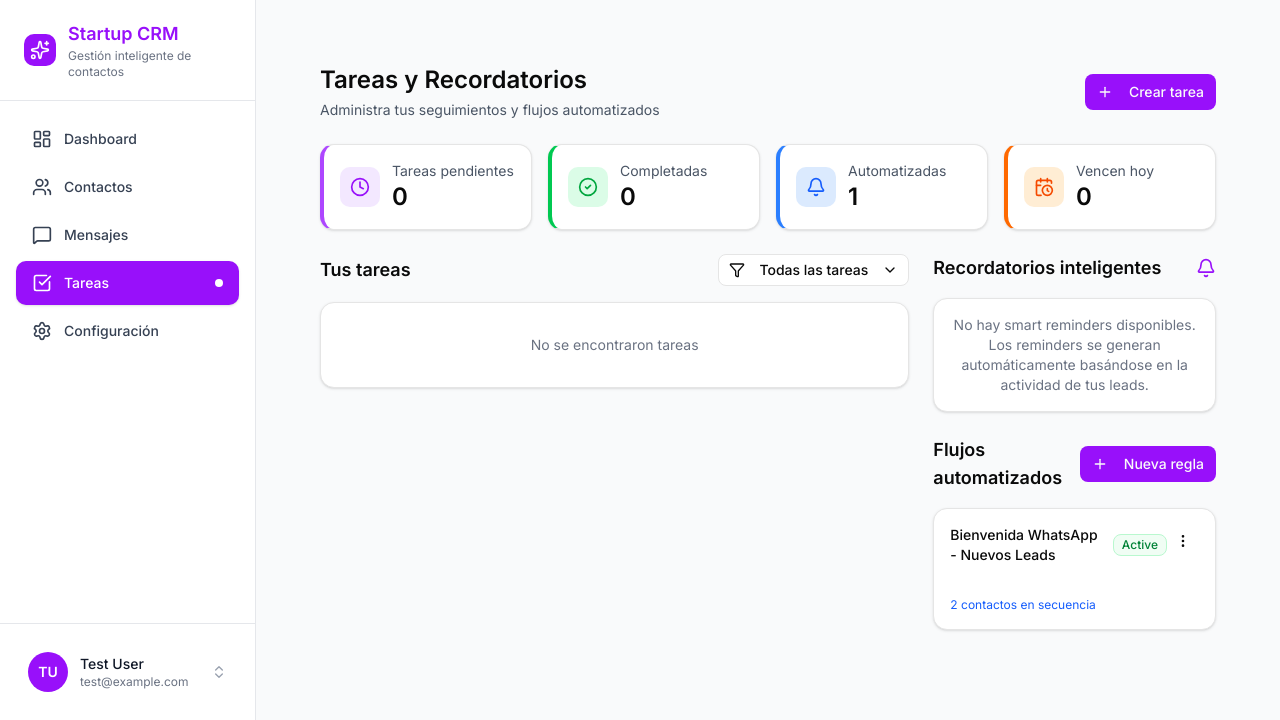
Test case: Flujo de Bienvenida WhatsApp › Asignación de contactos al flujo › debe permitir buscar contactos en el modal de asignación
Click the button with test id "workflow-menu-1": (1183, 541) x1=1167 y1=525 x2=1199 y2=557
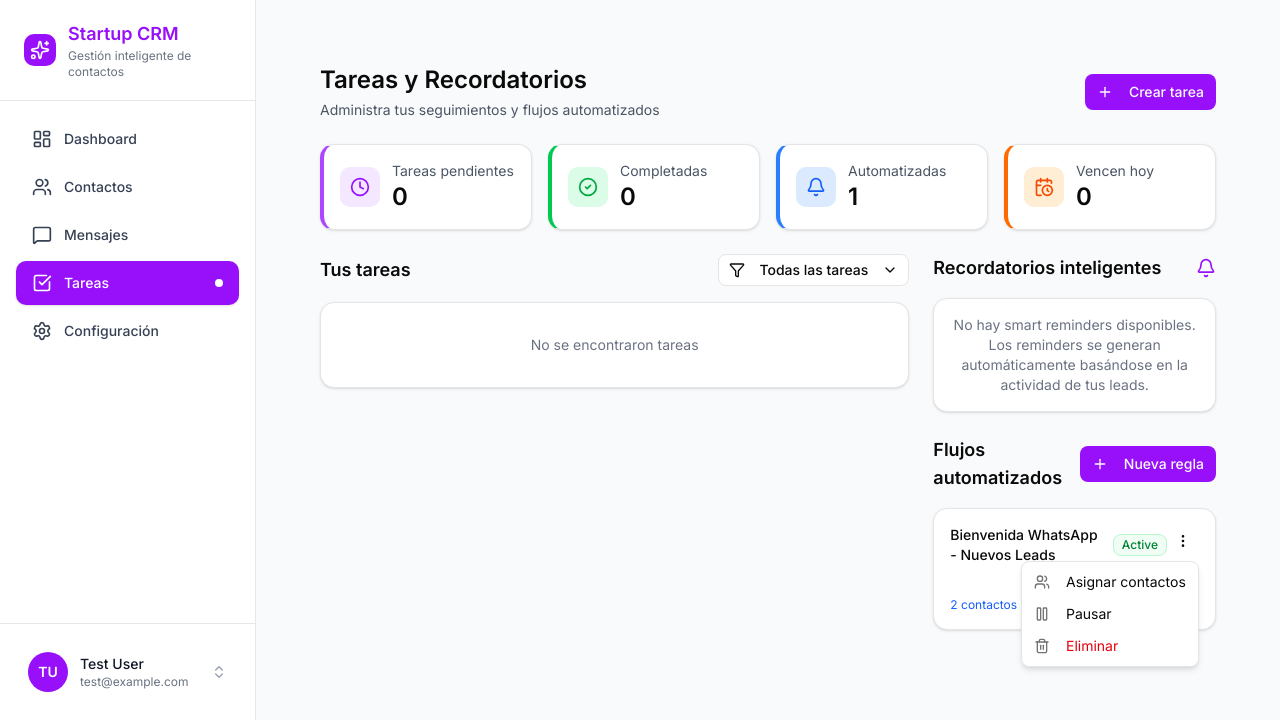
Click the menu item with test id "workflow-assign-contacts-1": (1110, 582) x1=1034 y1=573 x2=1186 y2=590
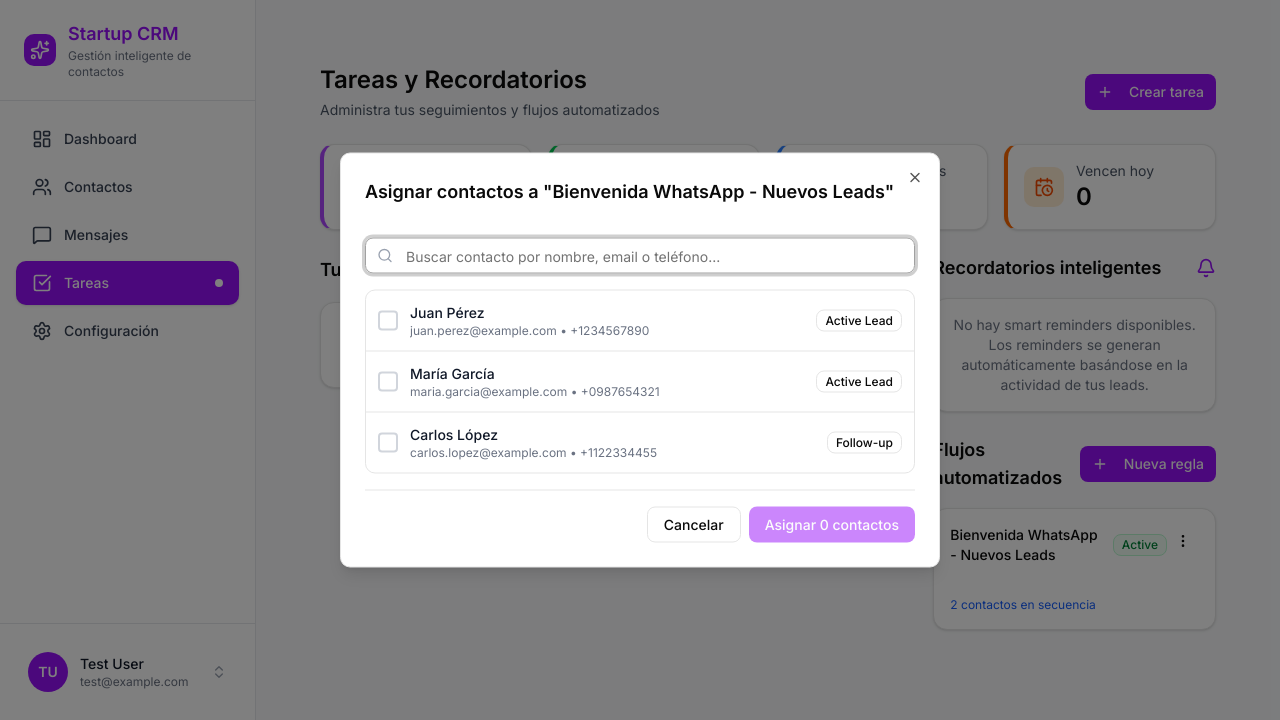
Check: the text "Juan Pérez" is shown, box x1=410 y1=304 x2=485 y2=320
// Buscar un contacto específico
In the field with placeholder "Buscar contacto por nombre, email o teléfono...": (640, 256) x1=365 y1=238 x2=915 y2=274, type "María"
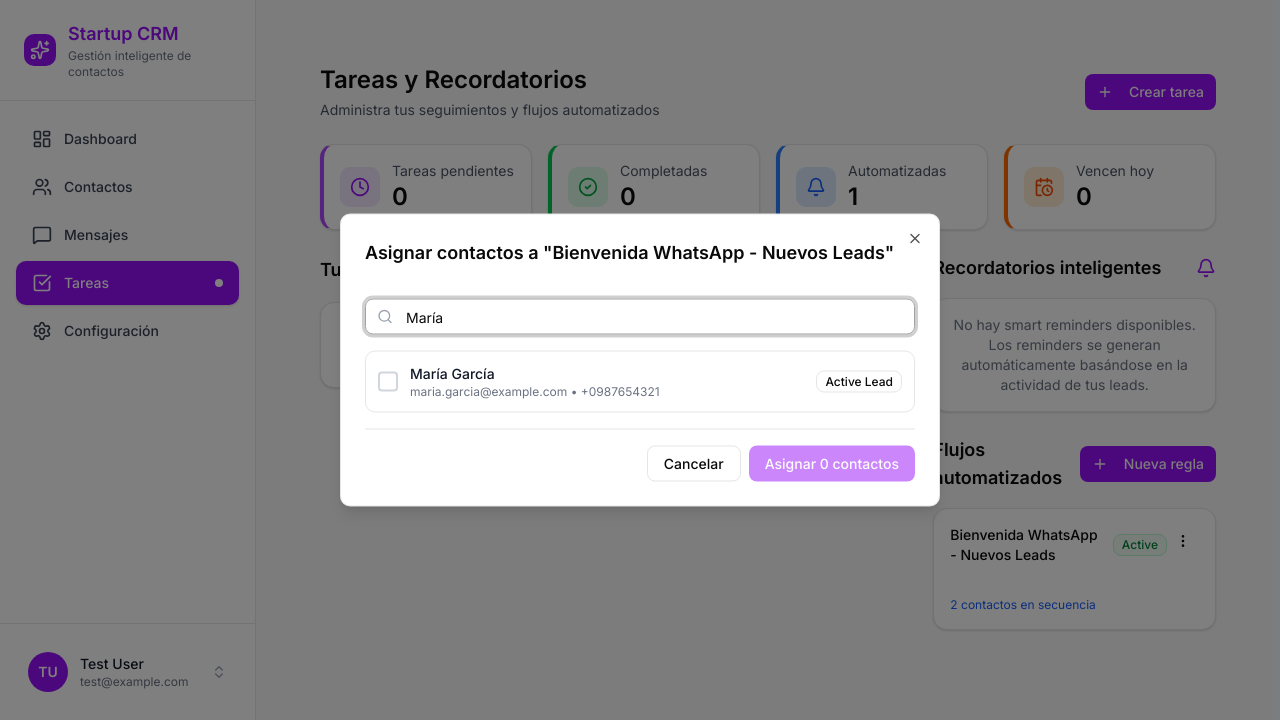
Check: the text "María García" is shown, box x1=410 y1=364 x2=495 y2=382
Check: the text "Juan Pérez" is gone
Check: the text "Carlos López" is gone
// Limpiar búsqueda
Clear the field: (640, 317) x1=365 y1=299 x2=915 y2=335
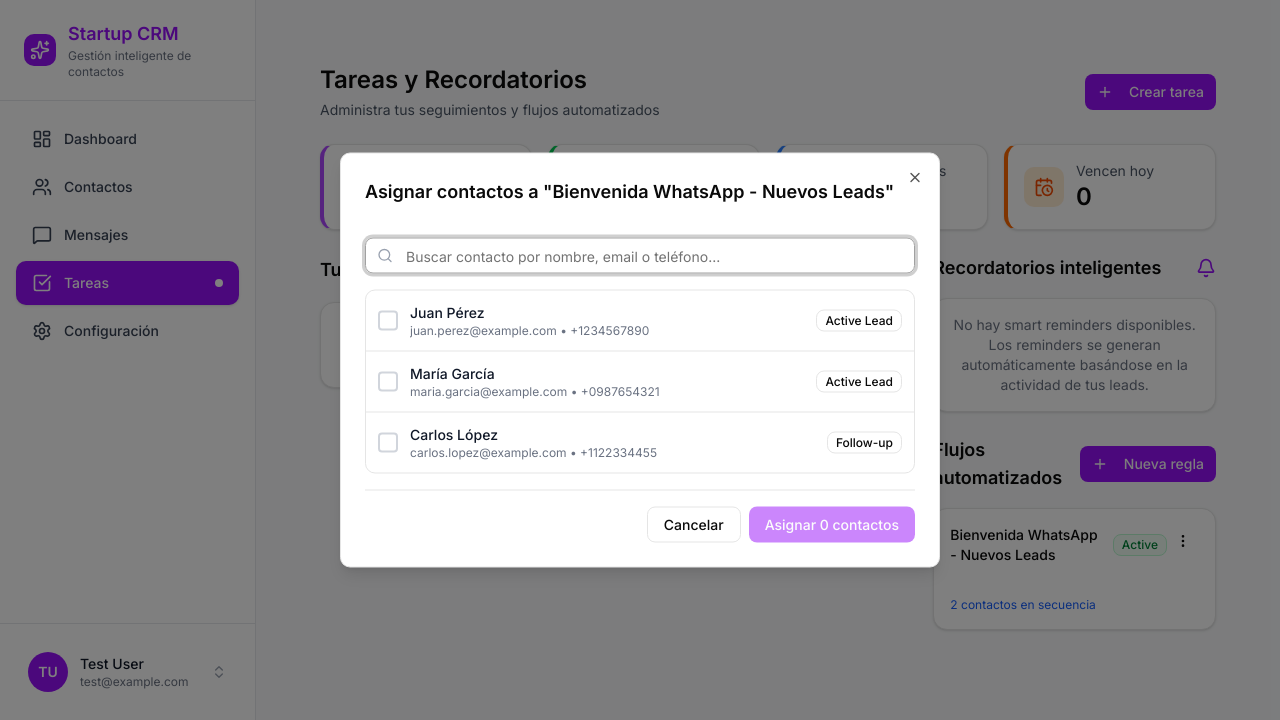
Check: the text "Juan Pérez" is shown, box x1=410 y1=304 x2=485 y2=320
